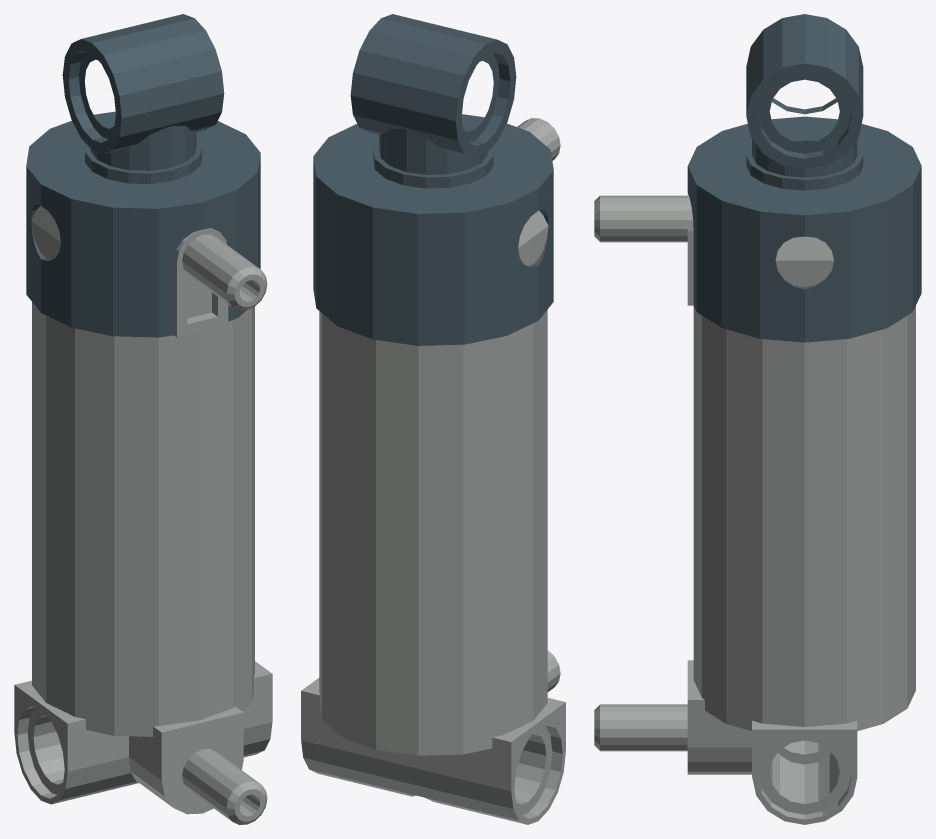
3 views of the same model, side by side, from view 1: azimuth 30°, elevation 25°; view 2: azimuth 150°, elevation 25°; view 3: azimuth 270°, elevation 25° (orthographic). The views are drawn at different scales.
Visible parts, largest first — view 1: world; view 2: world; view 3: world.
Boxes of the visible parts, <box> form: world: <box>14,14,272,824</box>; world: <box>301,14,565,824</box>; world: <box>594,14,921,824</box>.
Bounding box in the file's own units: 0.016 × 0.0556 × 0.0224.
